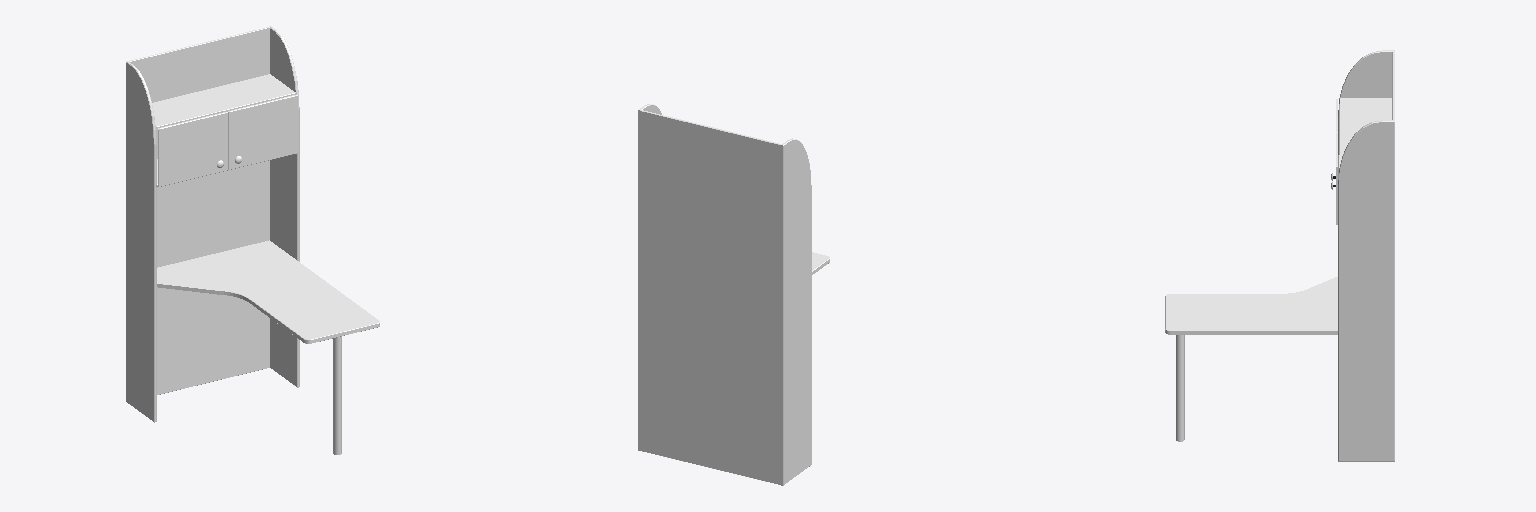
The model's file is child-desk.obj.
3 renders of one model, left to right at view 1: azimuth 30°, elevation 25°; view 2: azimuth 150°, elevation 25°; view 3: azimuth 270°, elevation 25°, orthographic.
Visible parts, largest first — view 1: child-desk; view 2: child-desk; view 3: child-desk.
Boxes of the visible parts, <box> form: child-desk: <box>126,26,379,454</box>; child-desk: <box>638,104,829,485</box>; child-desk: <box>1165,50,1394,461</box>.
Bounding box in the file's own units: 1.25 × 2.78 × 1.7.